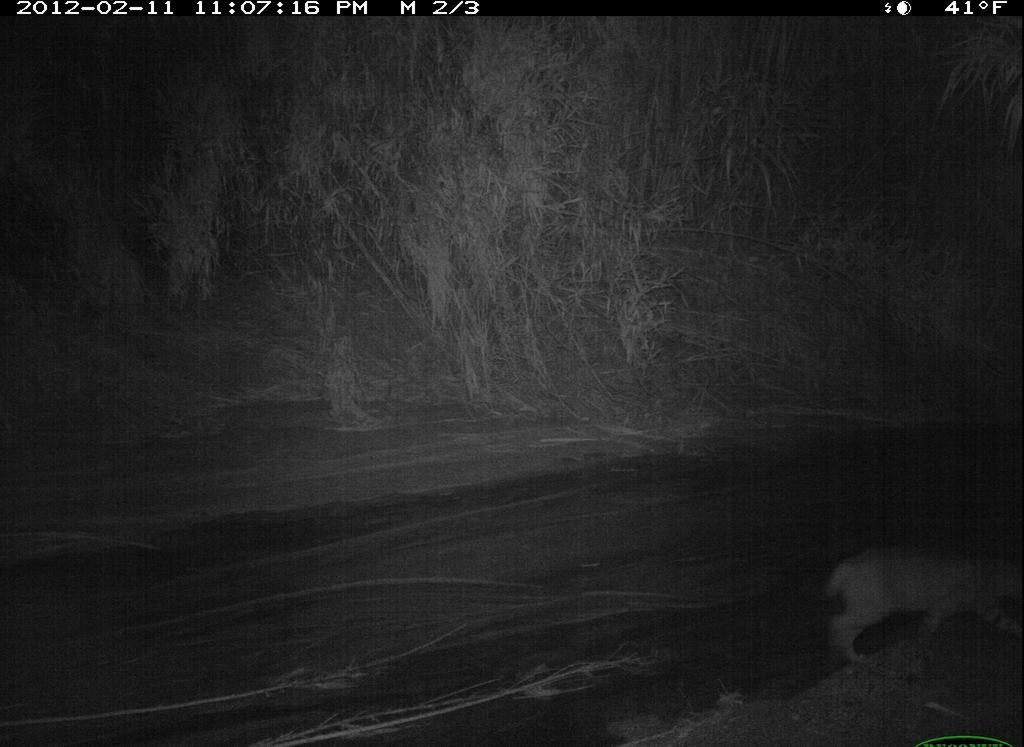bobcat: (818, 534, 1024, 657)
